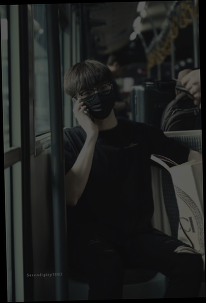with_mask: (76, 80, 116, 120)
